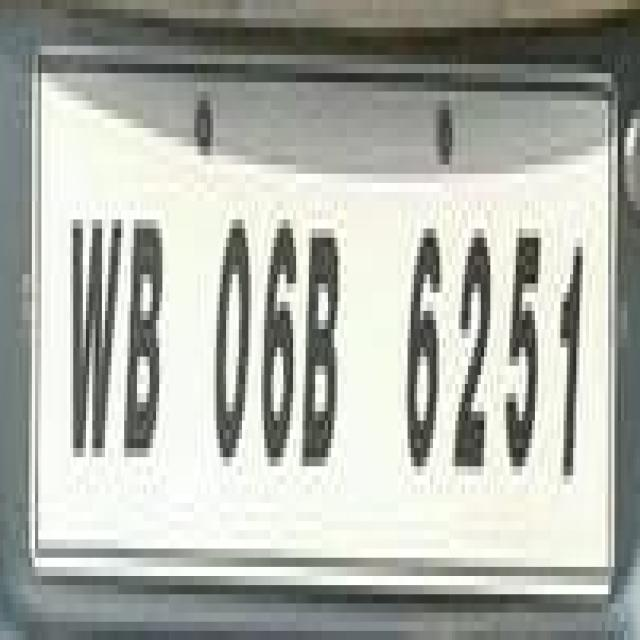license_plate: (0, 64, 624, 585)
